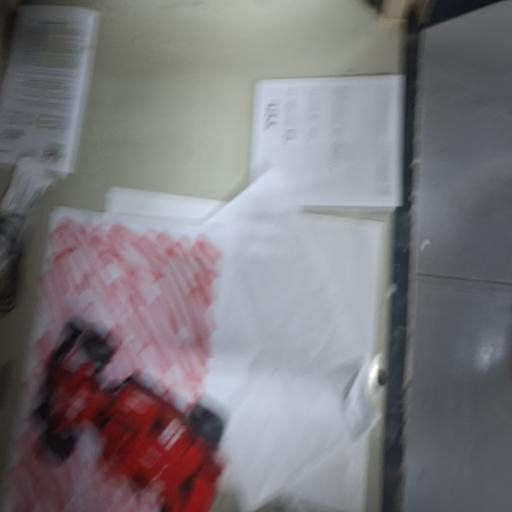carro: (37, 321, 222, 511)
